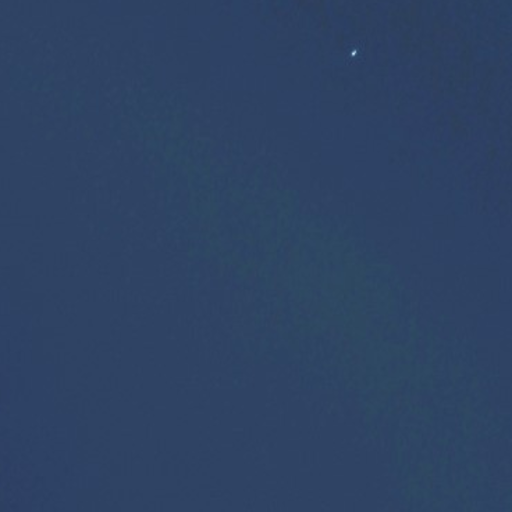ship: (349, 46, 358, 59)
